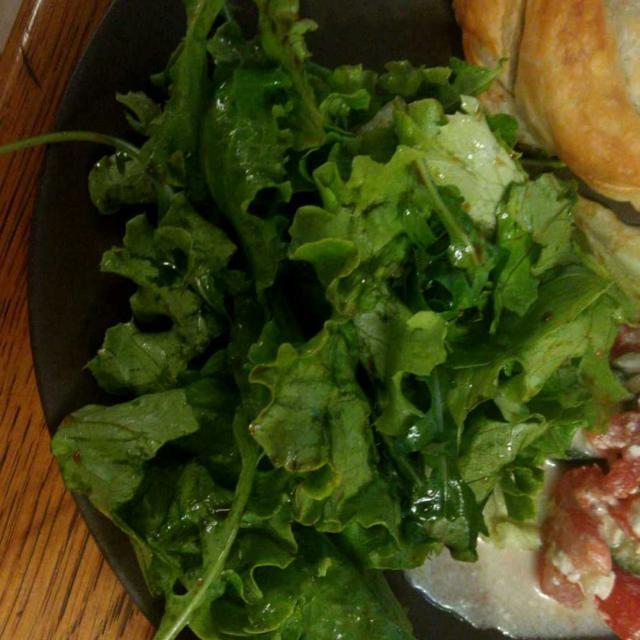salad: (90, 45, 625, 626)
